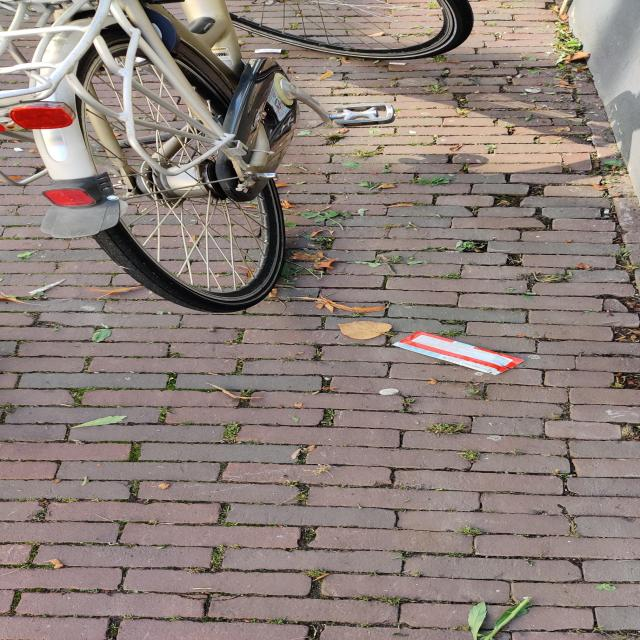litter: (392, 331, 526, 376), (254, 49, 282, 53)
